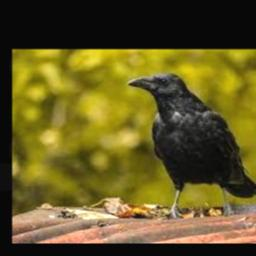Crow: (126, 71, 256, 216)
